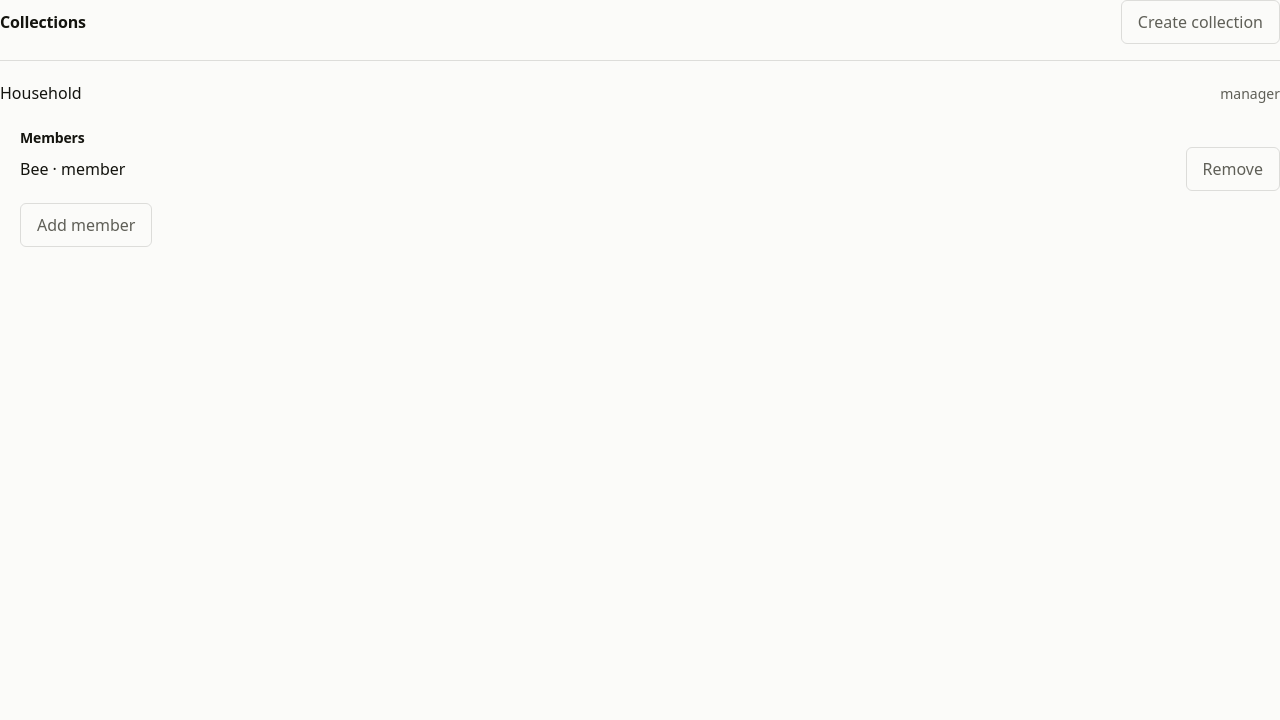
Test: CollectionsScreen › shows an error instead of silently closing the dialog when removal fails
The width and height of the screenshot is (1280, 720).
Click the button "Remove" at (1233, 168), box [1186,146,1279,190]
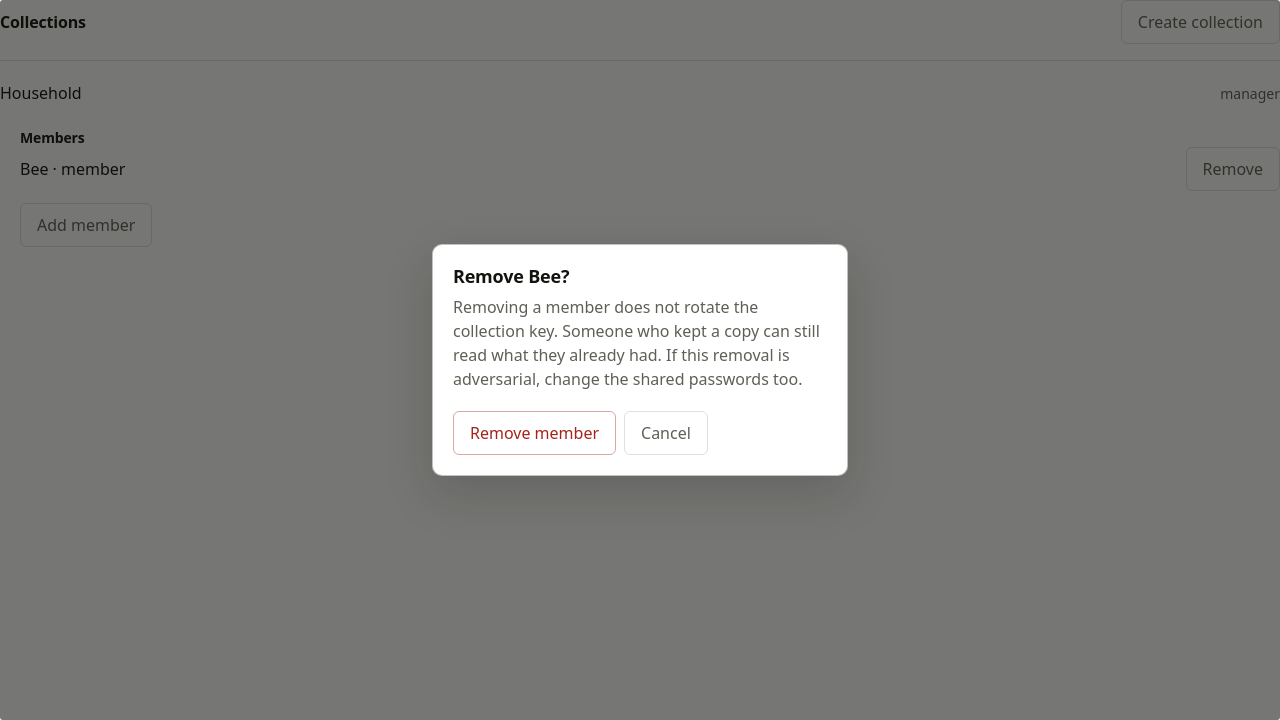
Click the button "Remove member" at (534, 433), box [453,411,616,455]
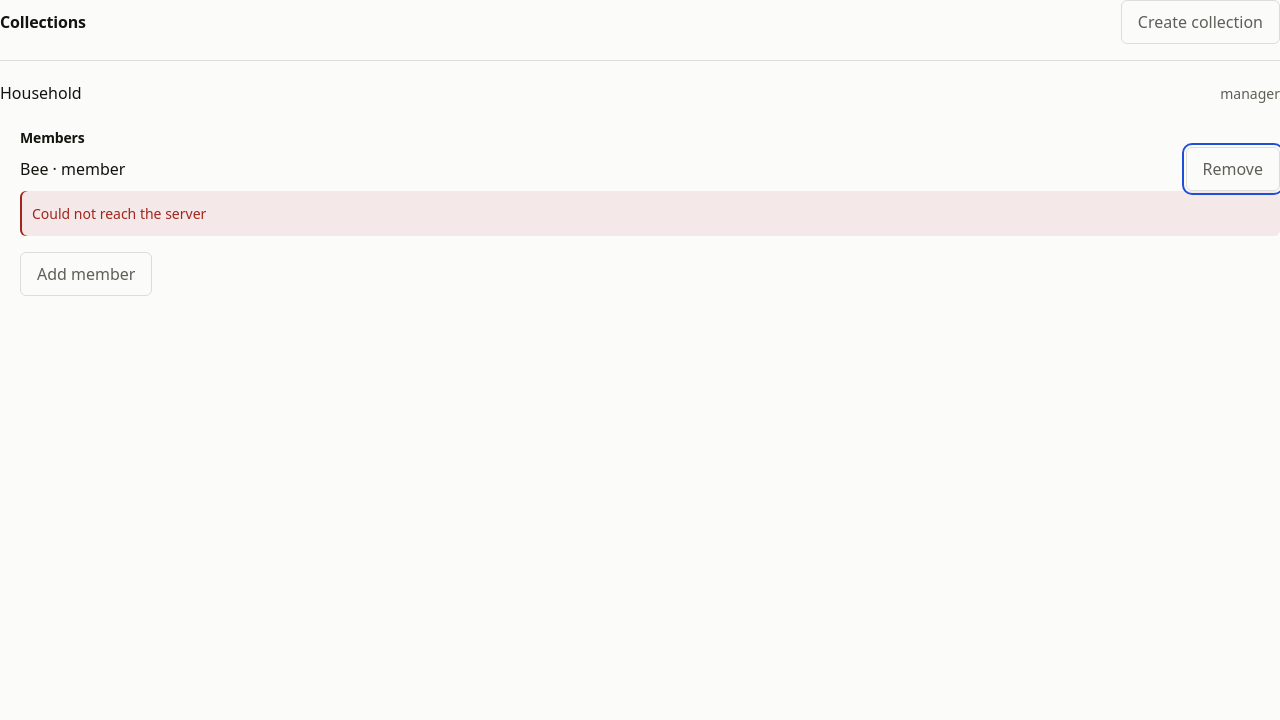
Result: the message reads "Could not reach the server" at [32,204,206,222]
